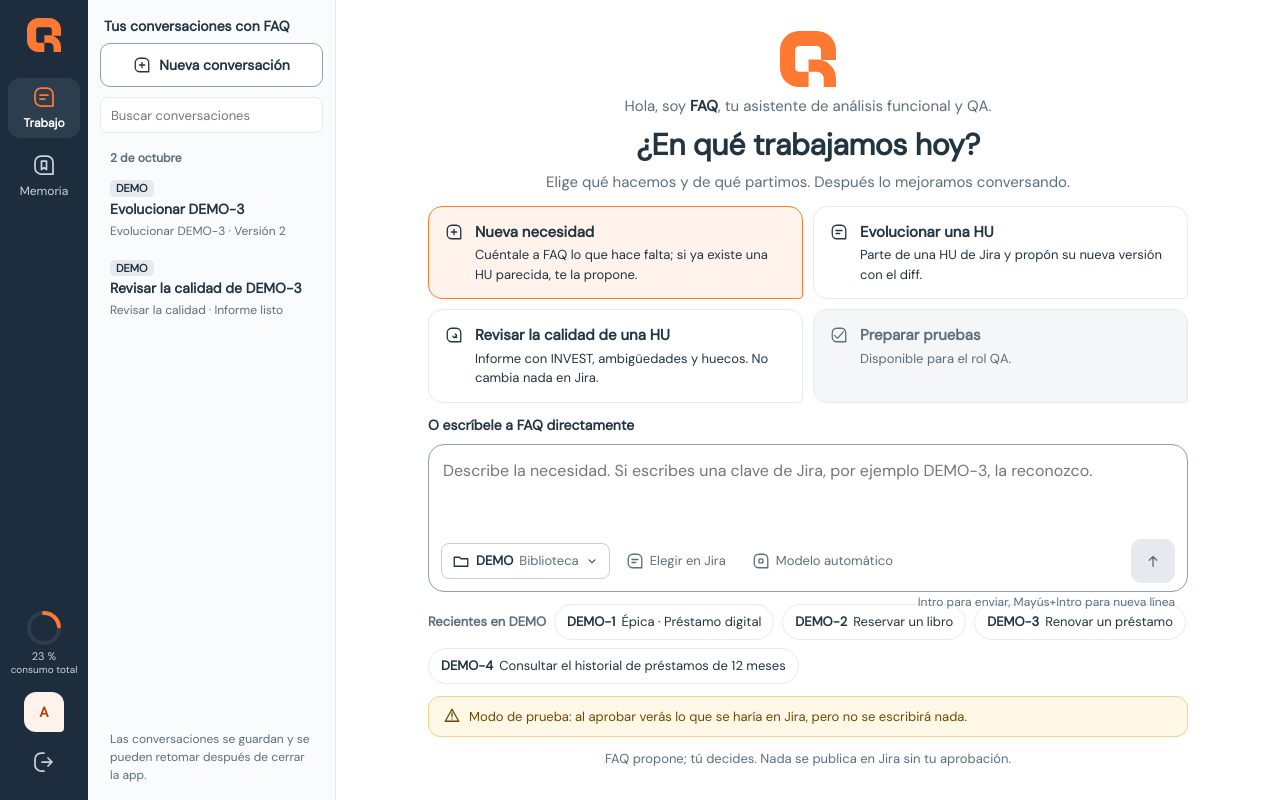
Test case: Origen y fuentes · conversación antes de elegir la operación (ronda 8) › si /start/propose falla, sale la tarjeta de error, el mensaje se queda y se puede volver a escribir
Expected: the button with aria-label "Proyecto de Jira: DEMO" is shown, [441,543,610,579]
In the text box: (808, 495) [441,457,1175,533], type "Renovar un préstamo desde la app"
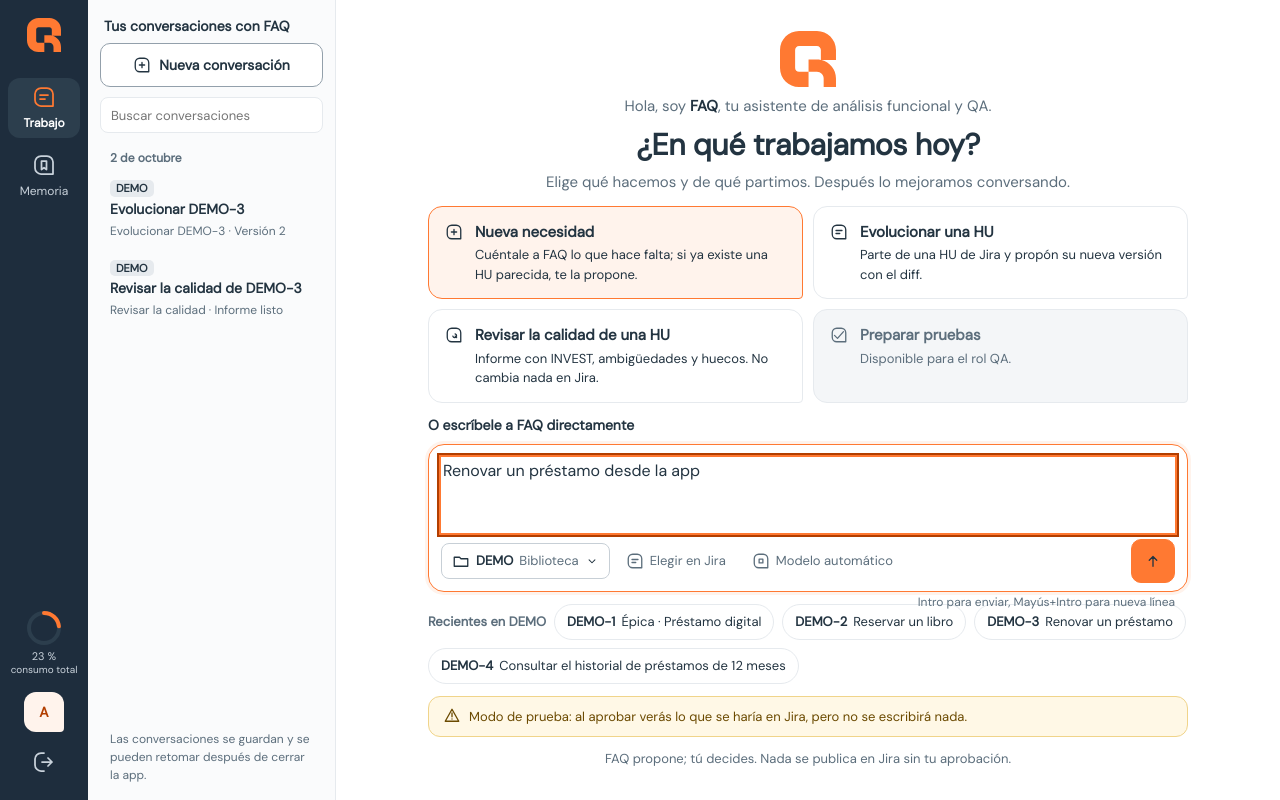
Click the button named "Continuar": (1153, 561) [1131,539,1175,583]
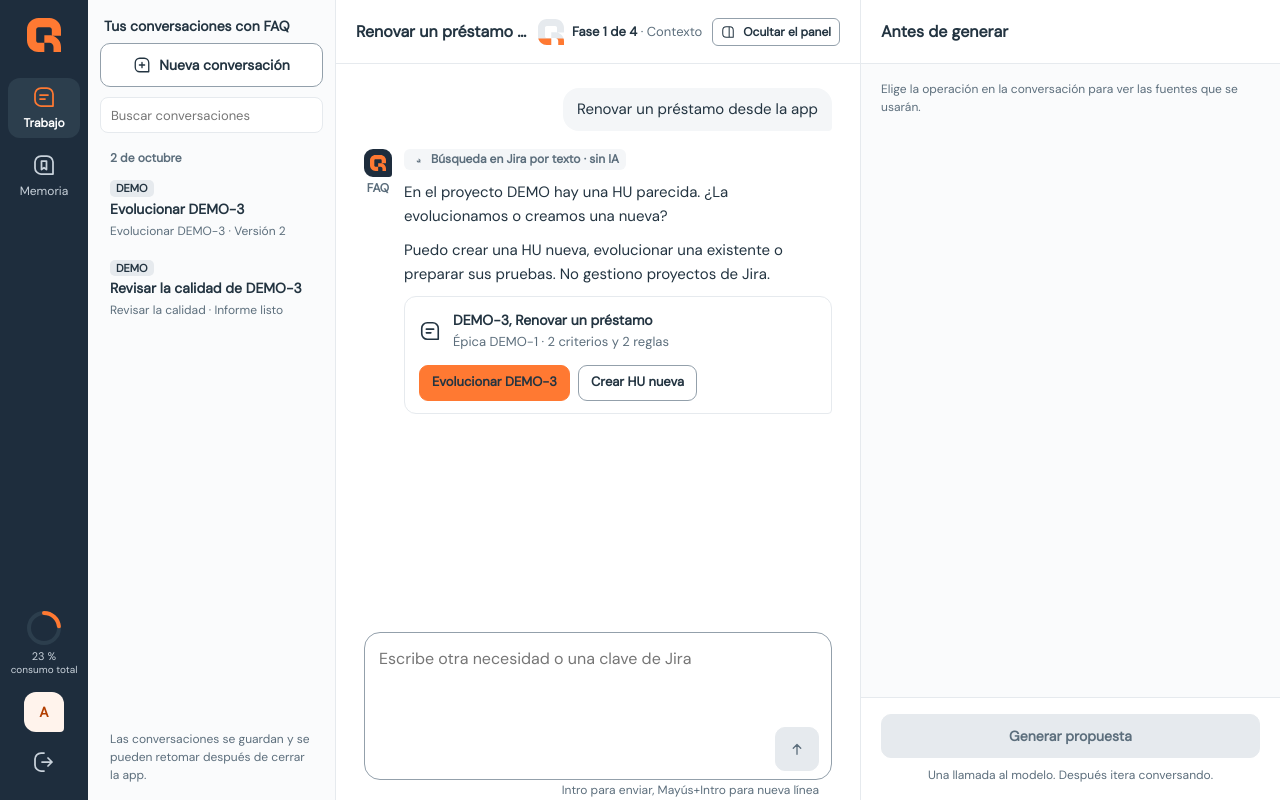
Expected: the element named "Conversación" is shown, [364,88,832,414]
In the text box with placeholder "Escribe otra necesidad o una clave de Jira": (598, 683) [377,645,819,721], type "Evoluciona DEMO-3"
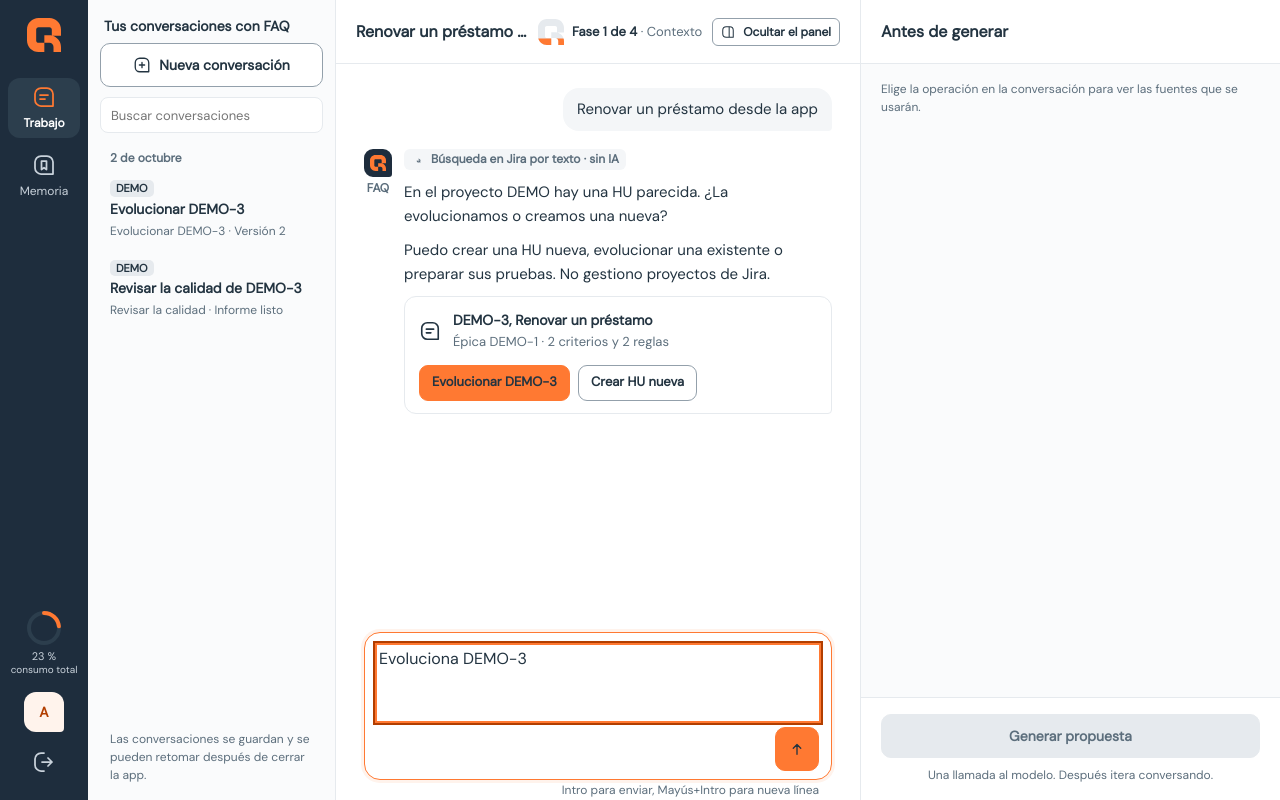
Click the button named "Enviar": (797, 749) [775,727,819,771]
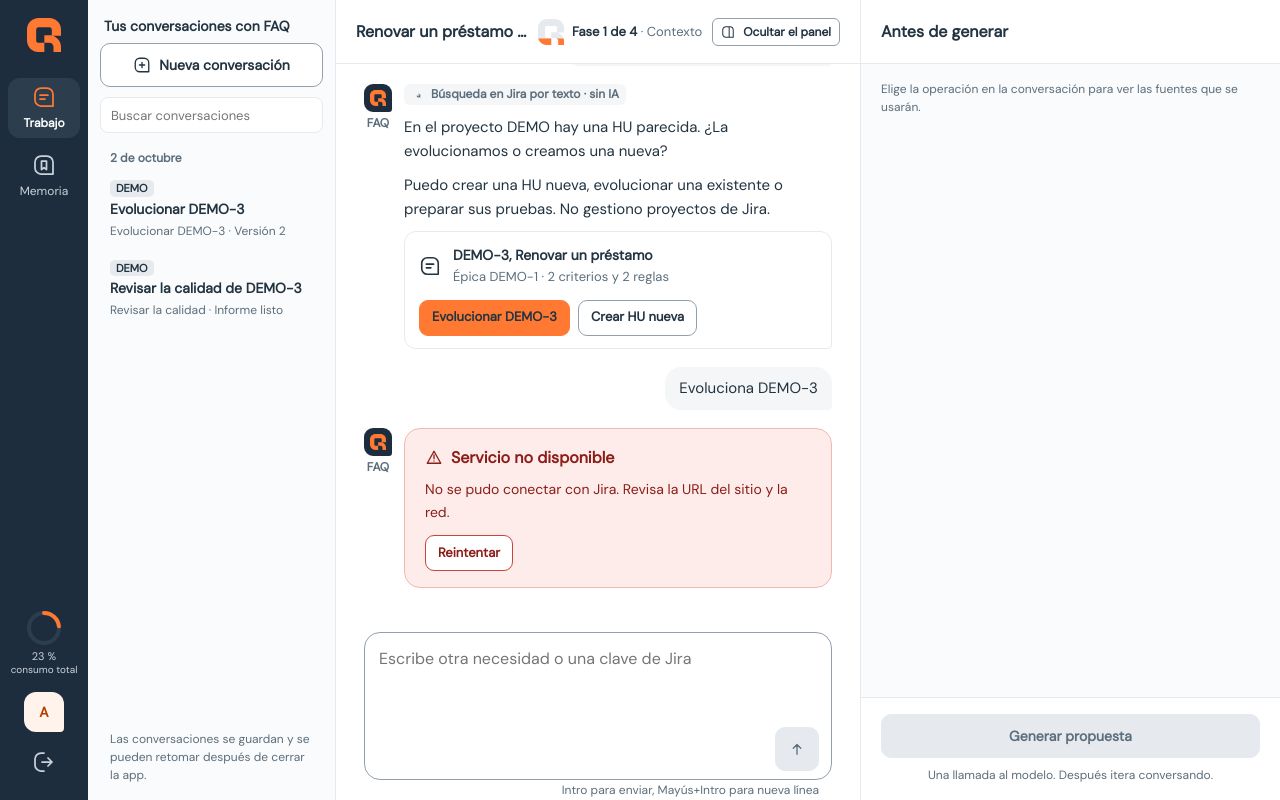
Expected: the button "Evolucionar DEMO-3" is enabled, [419,300,570,336]
Expected: the heading "Servicio no disponible" is shown, [425,445,614,470]
Expected: the list item "Evoluciona DEMO-3" is shown, [665,367,832,410]
